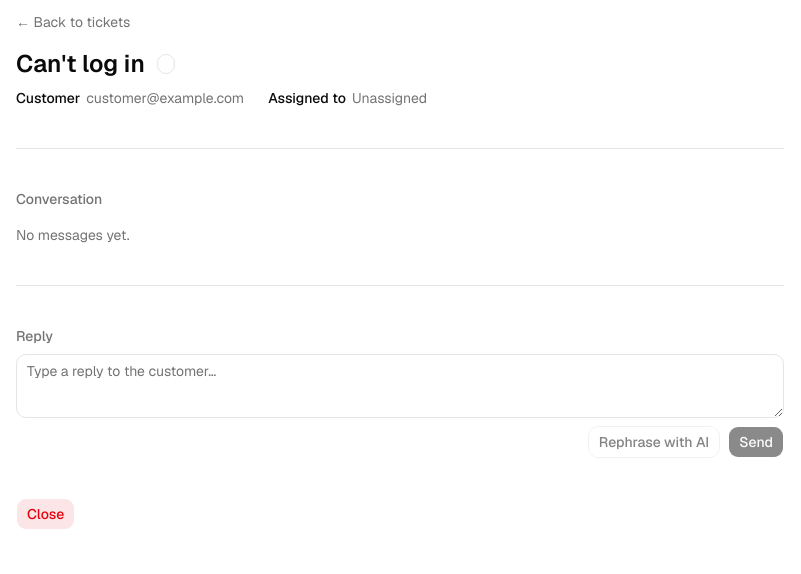
Test: TicketDetailView › reply box › shows the mutation's error message inline when the reply POST fails
Step 1. Type "Thanks for reaching out." into the text box named "Reply to customer" → [400, 386], box left=16, top=354, right=784, bottom=418
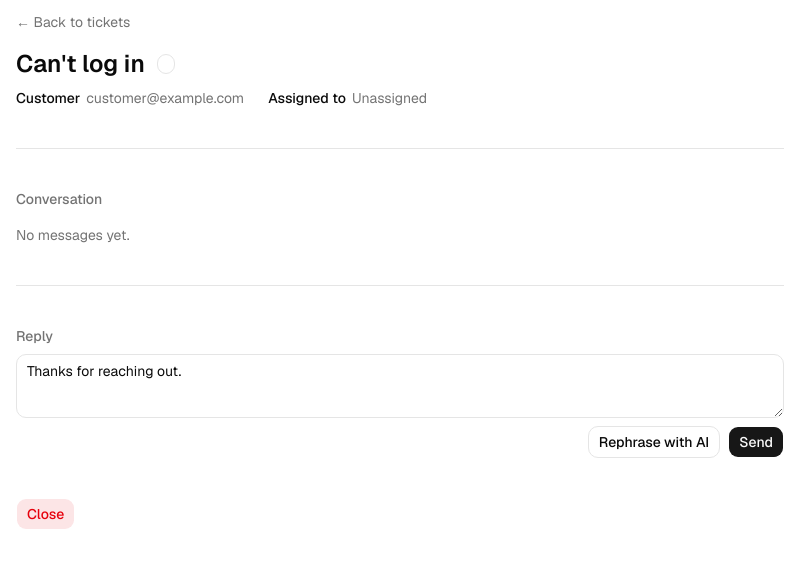
Step 2. Click the button "Send" → [756, 442], box left=728, top=426, right=784, bottom=458
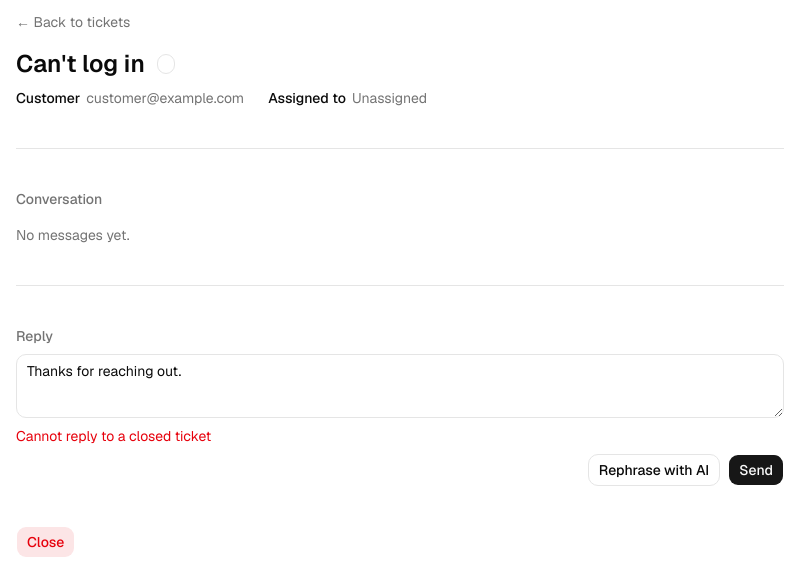
Expected: the text "Cannot reply to a closed ticket" is shown, left=16, top=427, right=211, bottom=445
